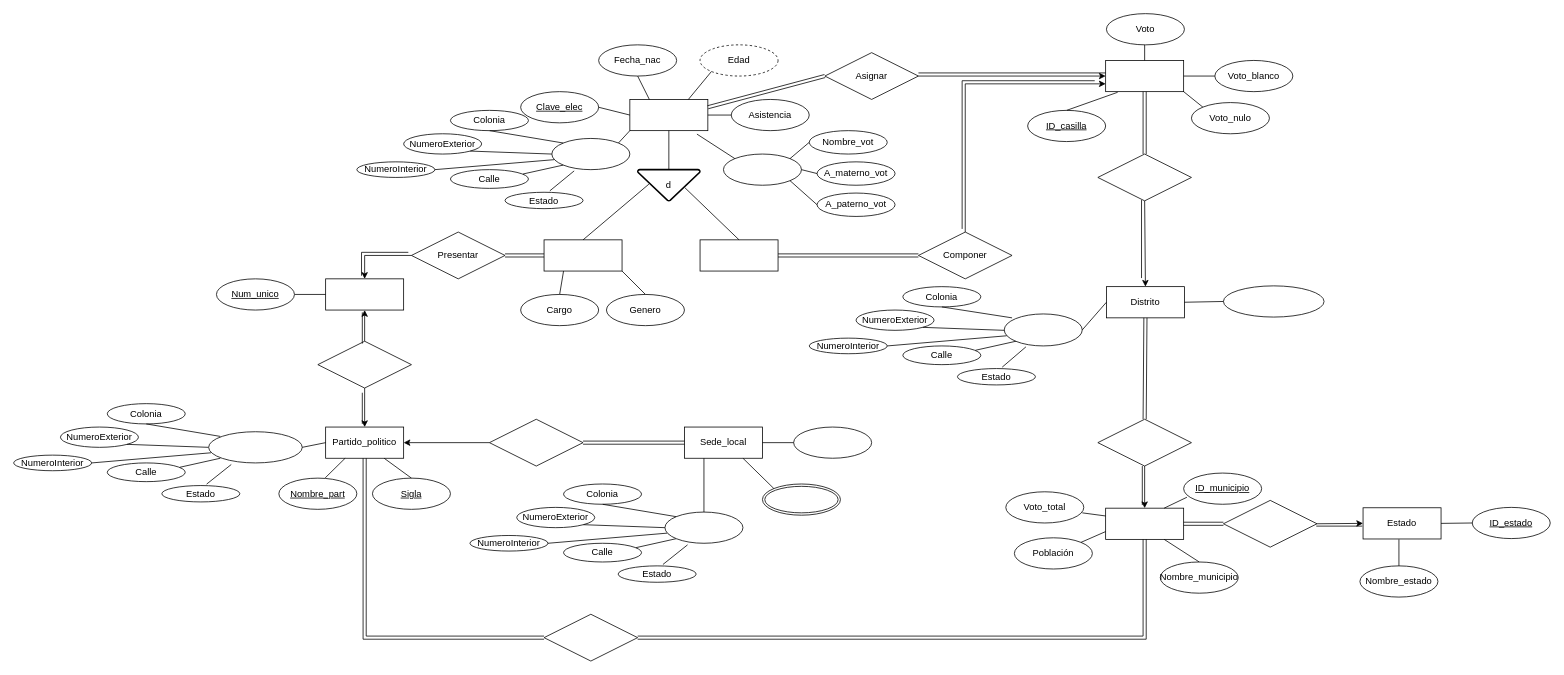
The diagram is 1564 pixels wide and 675 high, and some of its shapes have lost their labels. Here are the shapes that lost their labels. From the top down, the box of each, then its label:
(1105, 60, 1184, 92): Casilla
(629, 99, 708, 131): Votante
(551, 138, 630, 170): Direccion
(723, 153, 801, 185): NombreC_vot
(1097, 153, 1191, 201): Situar
(543, 239, 622, 271): Candidato
(699, 239, 778, 271): Funcionario
(325, 278, 404, 310): Lista
(1223, 285, 1324, 317): ID_Distrito
(1003, 313, 1082, 346): Direccion_dist
(317, 340, 411, 388): Conformar
(208, 431, 302, 463): Direccion_principal
(489, 418, 583, 466): Poseer
(793, 426, 872, 458): ID_sede
(1097, 418, 1191, 466): Pertenecer
(762, 483, 840, 515): Telefono
(664, 511, 743, 543): Direccion_part
(1105, 507, 1184, 539): Municipio
(1223, 500, 1317, 547): Existir
(543, 613, 638, 661): Contender
